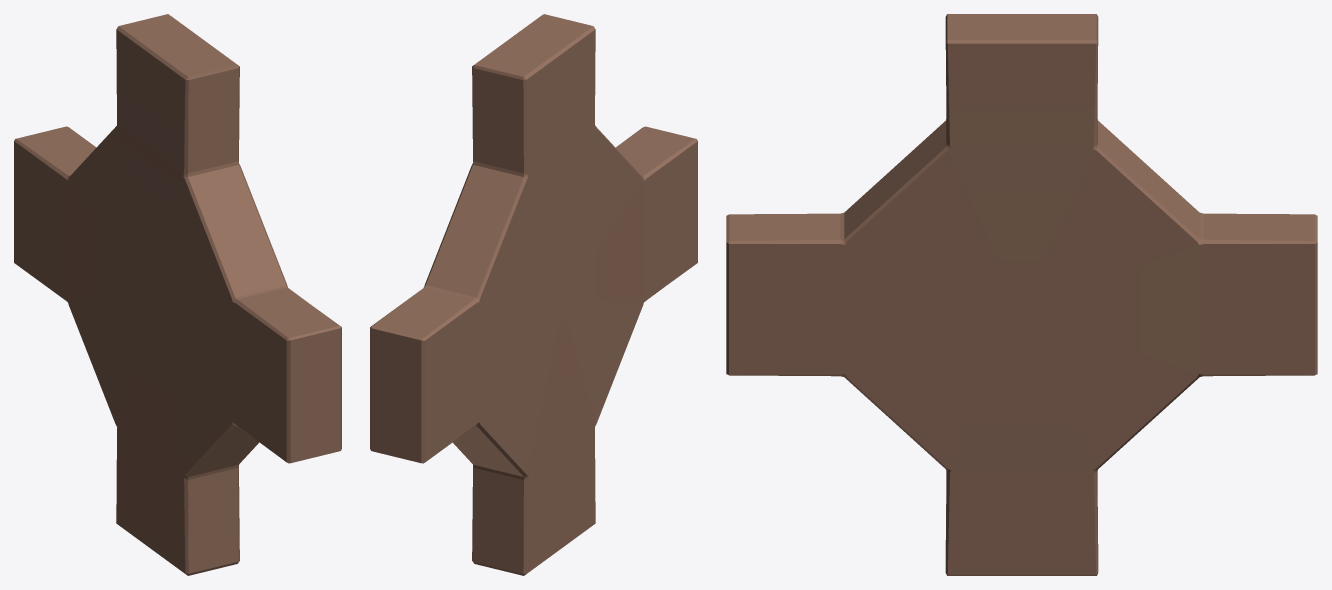
Rendered from Pipe_Diamond_Cut_01.fbx.
3 renders of one model, left to right at view 1: azimuth 30°, elevation 25°; view 2: azimuth 150°, elevation 25°; view 3: azimuth 270°, elevation 25°, orthographic. The views are drawn at different scales.
Parts seen in each view (by area): view 1: Pipe_Diamond_Cut_01; view 2: Pipe_Diamond_Cut_01; view 3: Pipe_Diamond_Cut_01.
Boxes of the visible parts, x1=… form: Pipe_Diamond_Cut_01: x1=14, y1=14, x2=341, y2=575; Pipe_Diamond_Cut_01: x1=370, y1=14, x2=697, y2=575; Pipe_Diamond_Cut_01: x1=726, y1=14, x2=1317, y2=575.
Size of the model in its own units: 0.9889 by 8.5 by 8.5.
